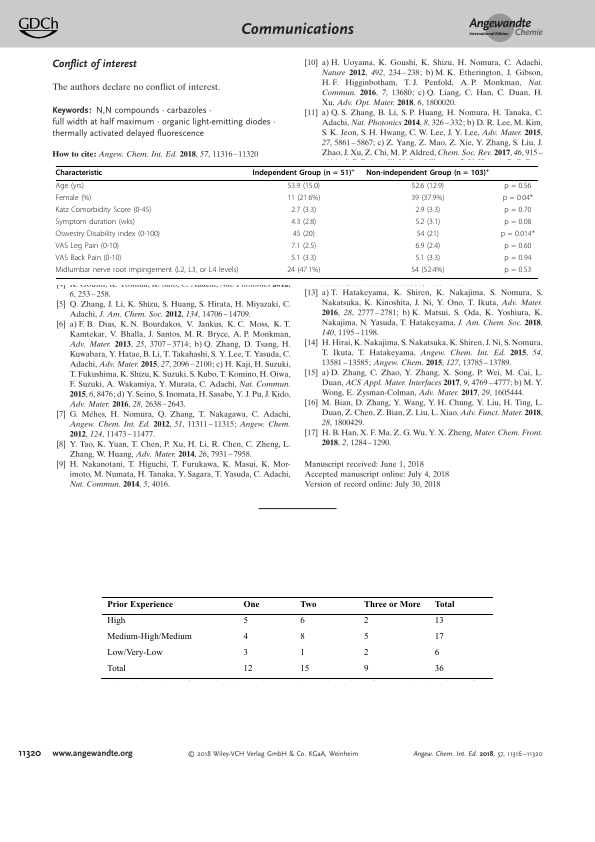borderless: (54, 165, 538, 278), (101, 595, 493, 678)
cell: (55, 266, 239, 275), (365, 167, 490, 178), (252, 167, 356, 178), (55, 230, 161, 240), (55, 206, 152, 216), (106, 632, 192, 642), (55, 218, 136, 228), (106, 599, 173, 609), (55, 254, 122, 263), (362, 599, 421, 609), (55, 242, 120, 251), (106, 648, 163, 658), (55, 169, 103, 178), (55, 194, 92, 204), (500, 230, 536, 240), (286, 182, 321, 192), (286, 194, 321, 204), (410, 194, 445, 204), (411, 182, 445, 192), (502, 194, 534, 204), (286, 266, 321, 275), (410, 266, 445, 275), (55, 182, 85, 192), (503, 182, 532, 192), (503, 206, 532, 216), (503, 218, 532, 228), (290, 206, 317, 216), (414, 206, 441, 216), (290, 218, 317, 228), (414, 218, 441, 228), (503, 242, 532, 251), (503, 254, 532, 263), (503, 266, 532, 275), (290, 242, 317, 251), (414, 242, 441, 251), (290, 254, 317, 263), (414, 254, 441, 263), (292, 230, 316, 240), (416, 230, 440, 240), (433, 599, 455, 609), (106, 616, 126, 626), (106, 664, 126, 674), (242, 599, 260, 609), (299, 599, 317, 609), (433, 616, 444, 626), (433, 632, 444, 642), (242, 664, 253, 674), (299, 664, 310, 674), (433, 664, 444, 674), (362, 616, 369, 626), (362, 632, 369, 642), (362, 648, 369, 658), (433, 648, 440, 658), (362, 664, 369, 674), (242, 616, 248, 626), (299, 616, 305, 626), (242, 632, 248, 642), (299, 632, 305, 642), (242, 648, 248, 658), (299, 648, 305, 658)
